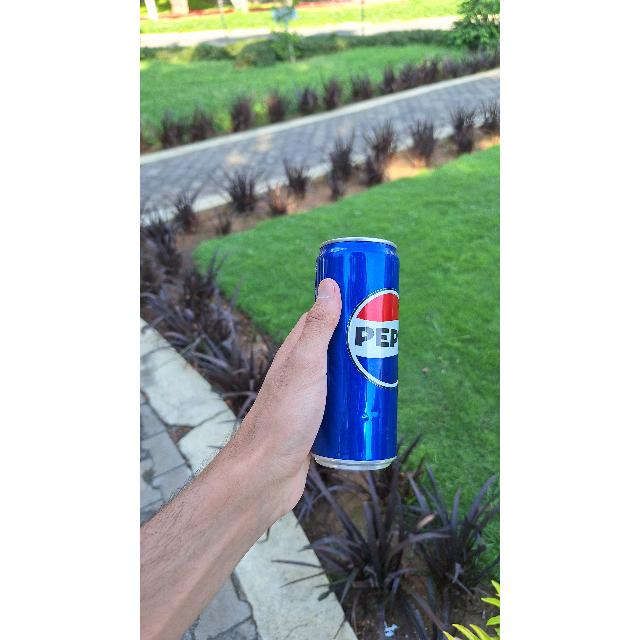Pepsi: (317, 238, 398, 468)
